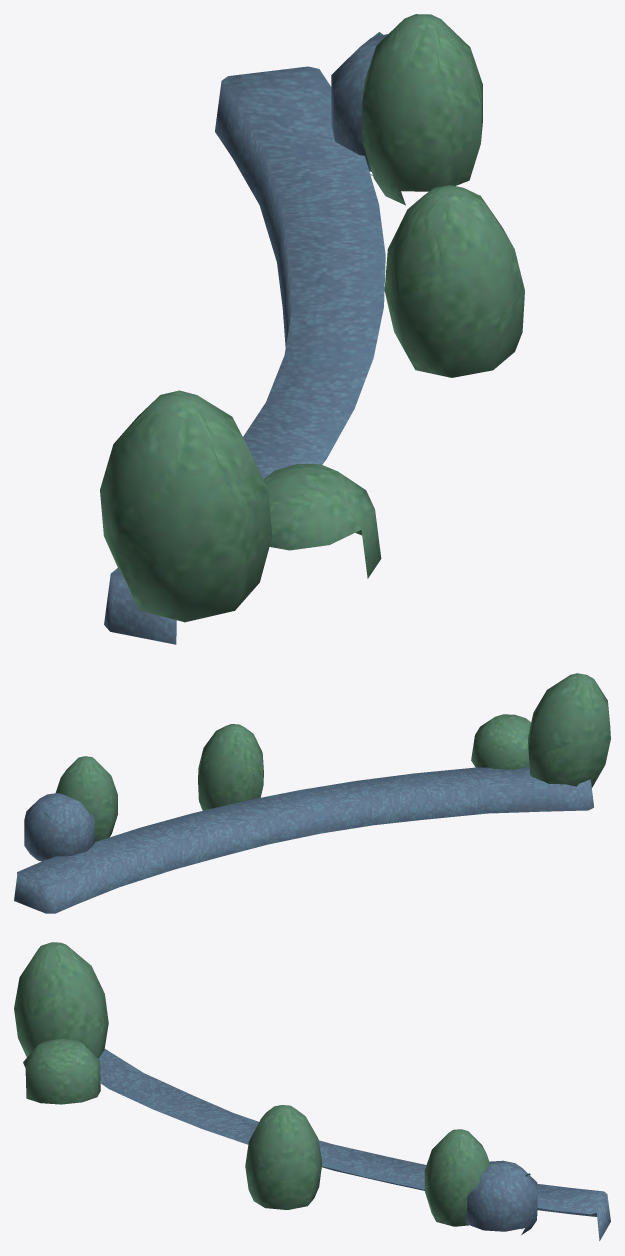
File: pref_sm_beach_bk_winter_pointmol_longplant_L02_lv0.fbx
3 views of the same model, one above another, from view 1: azimuth 30°, elevation 25°; view 2: azimuth 150°, elevation 25°; view 3: azimuth 270°, elevation 25° (orthographic). The views are drawn at different scales.
Visible parts, largest first — view 1: pref_sm_beach_bk_winter_pointmol_longplant_L02_lv0; view 2: pref_sm_beach_bk_winter_pointmol_longplant_L02_lv0; view 3: pref_sm_beach_bk_winter_pointmol_longplant_L02_lv0.
Boxes of the visible parts, box(x1,y1,x2,y2) form: pref_sm_beach_bk_winter_pointmol_longplant_L02_lv0: box(100, 14, 524, 644); pref_sm_beach_bk_winter_pointmol_longplant_L02_lv0: box(14, 673, 610, 913); pref_sm_beach_bk_winter_pointmol_longplant_L02_lv0: box(14, 942, 610, 1240).
Size of the model in its own units: 18.43 by 5.59 by 23.18.
